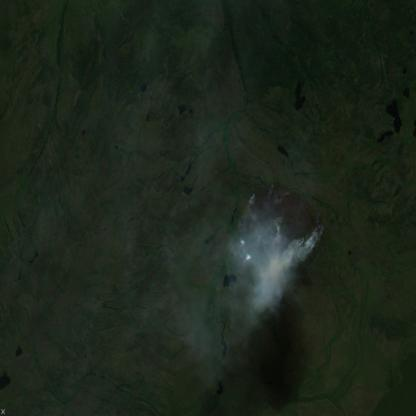fire: (238, 171, 330, 271)
